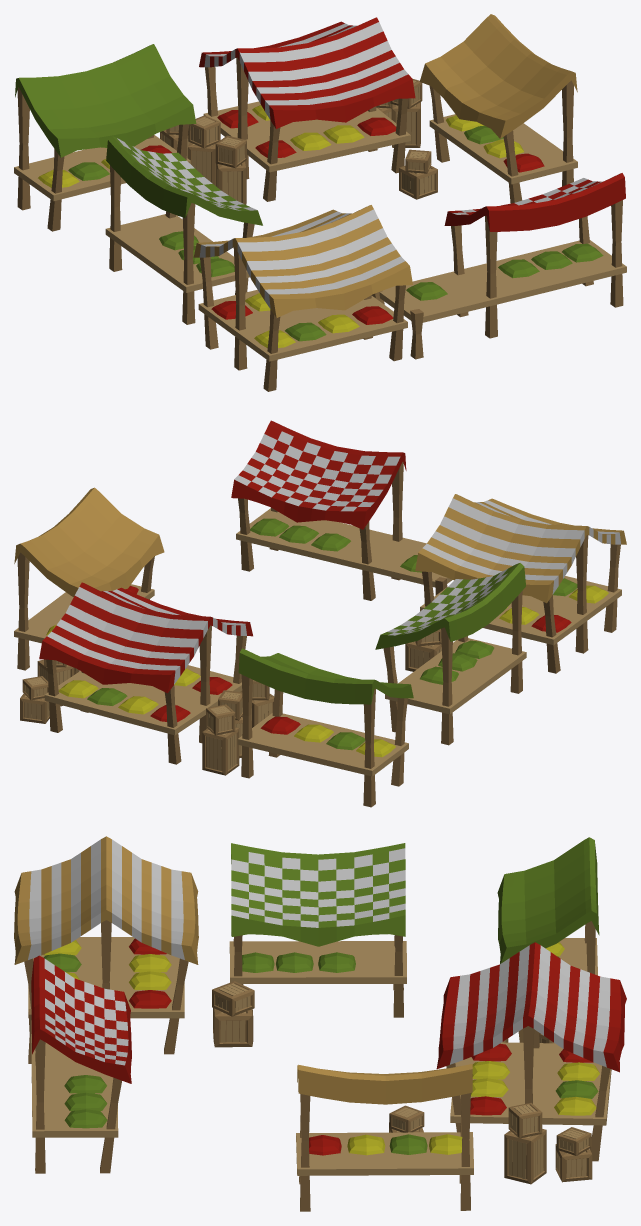
File: Village Market.glb
3 renders of one model, top to bottom at view 1: azimuth 30°, elevation 25°; view 2: azimuth 150°, elevation 25°; view 3: azimuth 270°, elevation 25°, orthographic. The views are drawn at different scales.
Visible parts, largest first — view 1: Market_FirstAge_Level3; view 2: Market_FirstAge_Level3; view 3: Market_FirstAge_Level3.
Part boxes in pixels (x1,y1,x2,y2): Market_FirstAge_Level3: (14,14,626,391); Market_FirstAge_Level3: (14,420,626,807); Market_FirstAge_Level3: (14,836,626,1211).
Size of the model in its own units: 1.89 by 0.5526 by 2.11.
